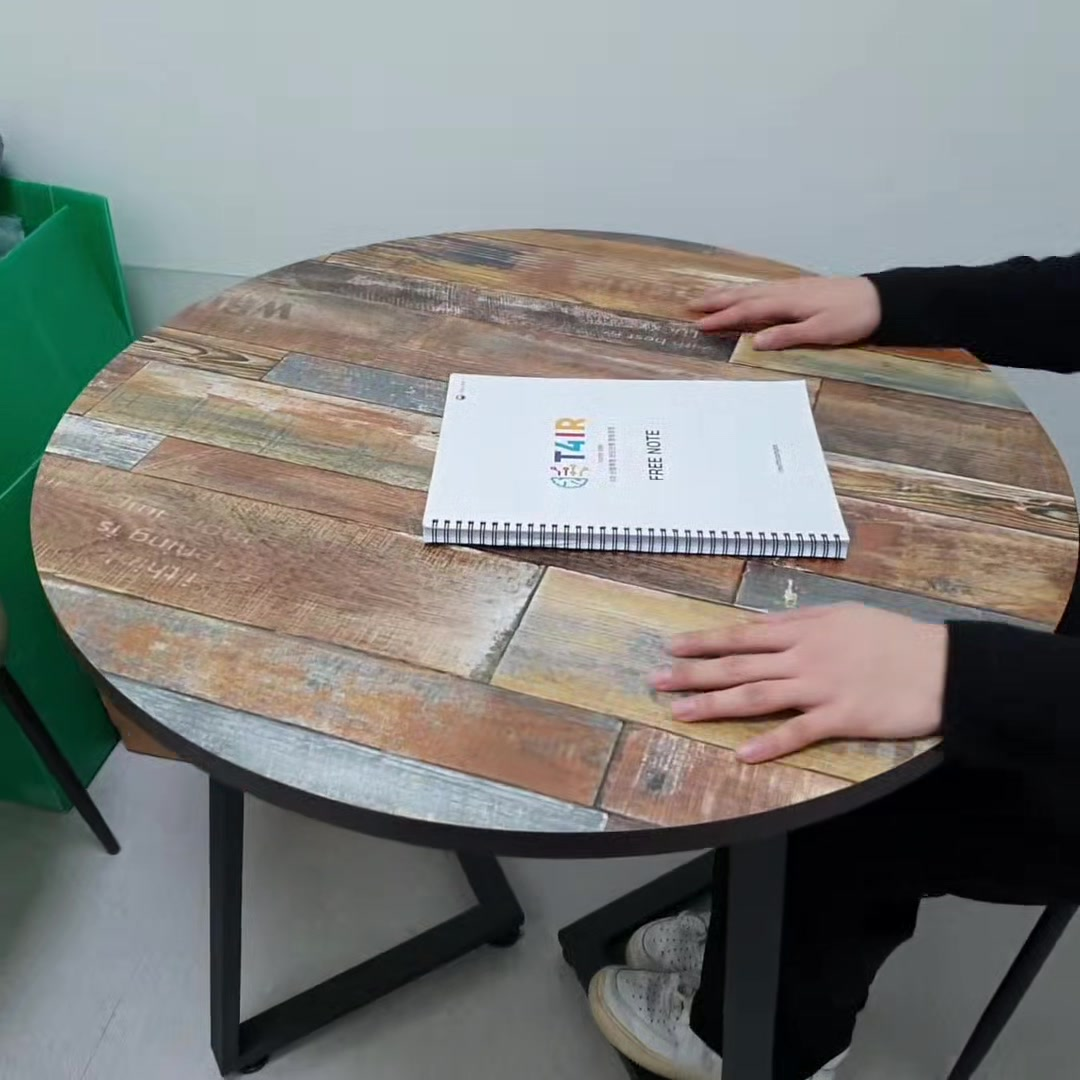book: (422, 370, 852, 561)
